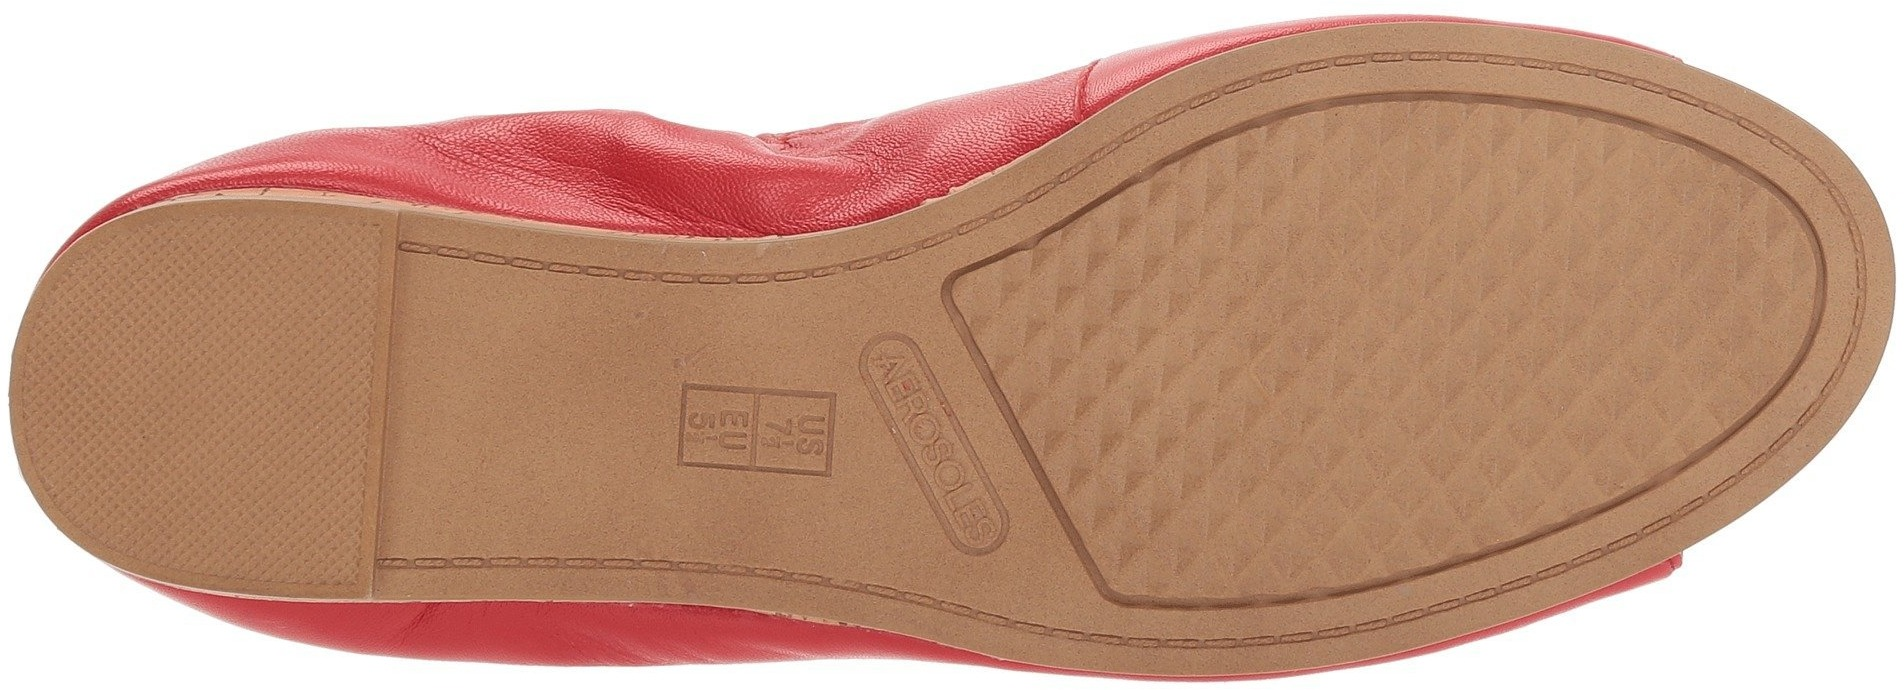other: (91, 258, 306, 459), (227, 468, 359, 596)
quad: (1447, 140, 1702, 383), (1224, 349, 1444, 564), (1231, 142, 1445, 345), (1025, 251, 1222, 441)
text: (937, 448, 1018, 517)
